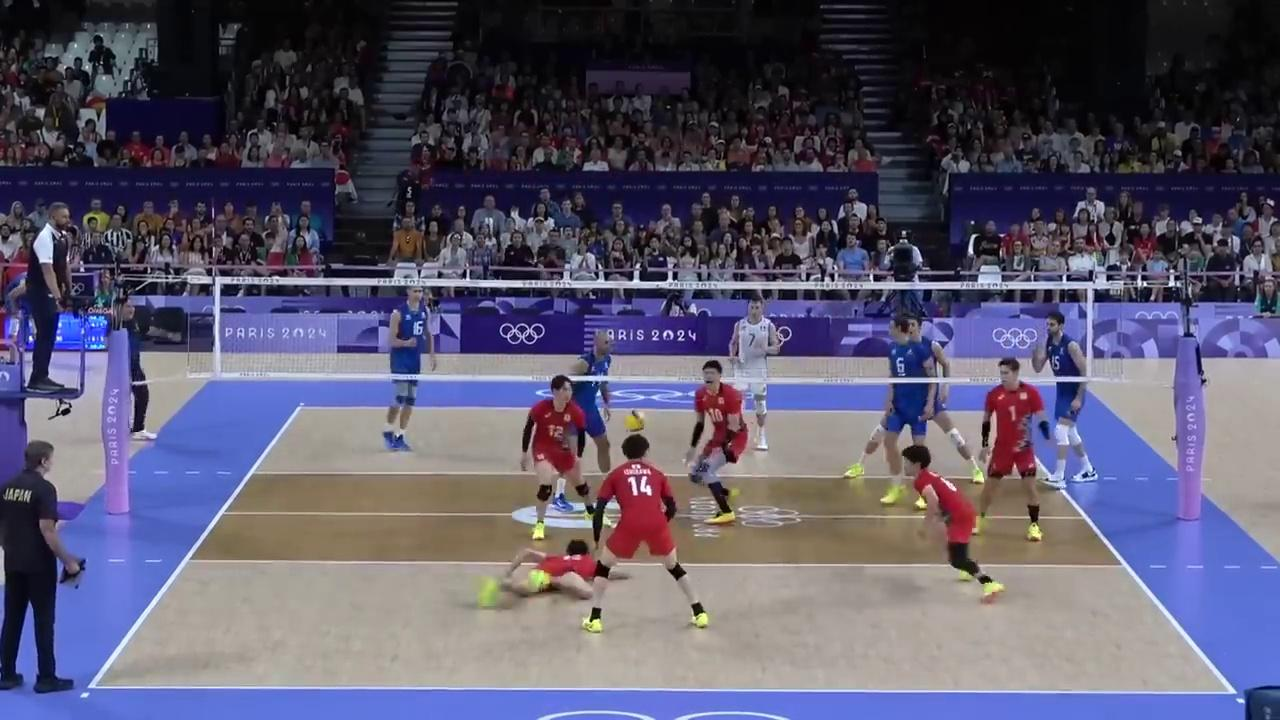ball: (626, 412, 644, 431)
